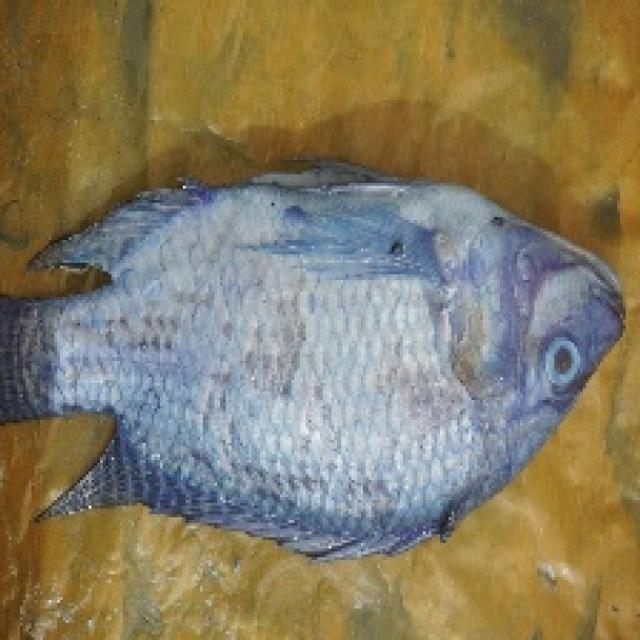Non-Fresh: (174, 195, 527, 523), (536, 321, 592, 403)
